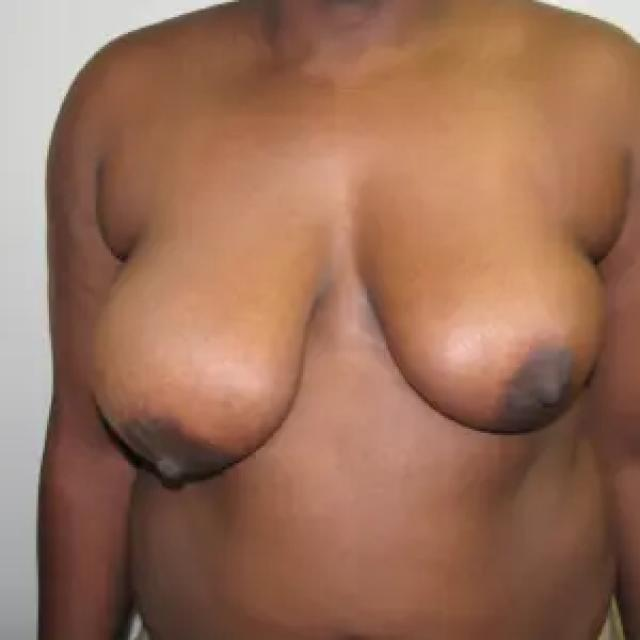Seno ileso: (81, 183, 339, 512), (346, 185, 614, 461)
